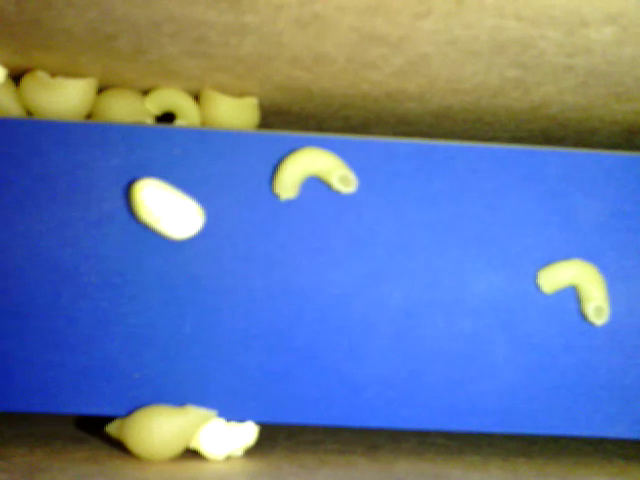elbow: (537, 256, 611, 326), (272, 144, 359, 198), (142, 84, 203, 127)
shell: (105, 399, 218, 460), (16, 71, 97, 119), (199, 84, 259, 131), (89, 86, 155, 122)
